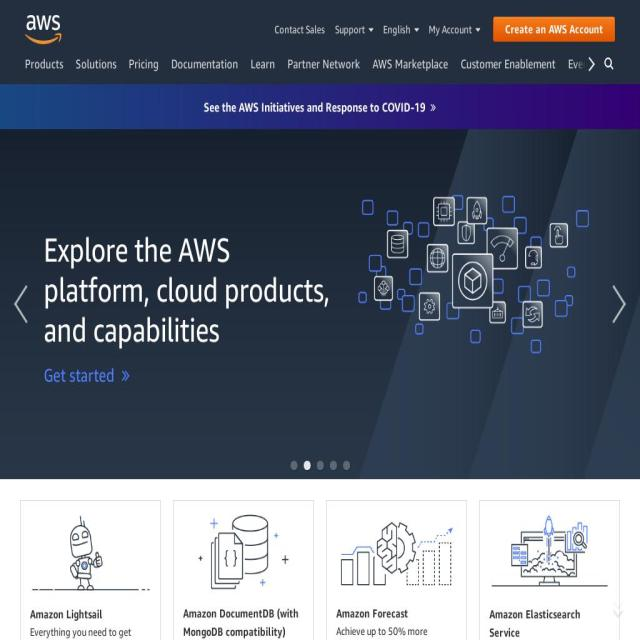button: (0, 84, 640, 129), (21, 501, 160, 640), (174, 501, 313, 640), (327, 501, 466, 640), (480, 501, 619, 640), (454, 53, 562, 92), (366, 53, 454, 92), (282, 53, 366, 92), (493, 16, 615, 42), (165, 53, 244, 92), (70, 53, 122, 92), (19, 53, 69, 92), (123, 53, 165, 92), (562, 53, 602, 92), (244, 53, 282, 92), (602, 53, 640, 92), (424, 20, 485, 38), (25, 15, 62, 44), (274, 20, 330, 38), (330, 20, 378, 38), (378, 20, 424, 38)
heading: (184, 229, 479, 349)
image: (490, 179, 640, 365), (0, 179, 98, 366), (489, 514, 610, 594), (30, 514, 151, 592), (183, 514, 304, 592), (336, 514, 457, 592), (604, 42, 615, 92), (290, 461, 298, 470), (303, 461, 311, 470), (316, 461, 324, 470), (329, 461, 337, 470), (342, 461, 350, 470)
text: (183, 604, 304, 640), (489, 605, 610, 640), (204, 99, 430, 114), (494, 17, 614, 41), (30, 604, 151, 624), (336, 604, 457, 624), (30, 622, 151, 640), (336, 622, 457, 640), (184, 364, 264, 386), (25, 15, 62, 44), (428, 22, 474, 36), (335, 22, 367, 36), (383, 22, 413, 36)
